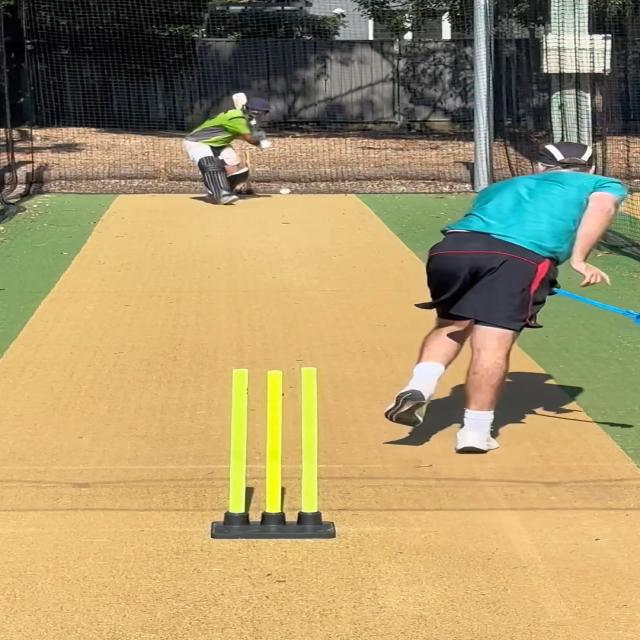ball: (277, 187, 292, 196)
stump: (210, 366, 336, 540)
